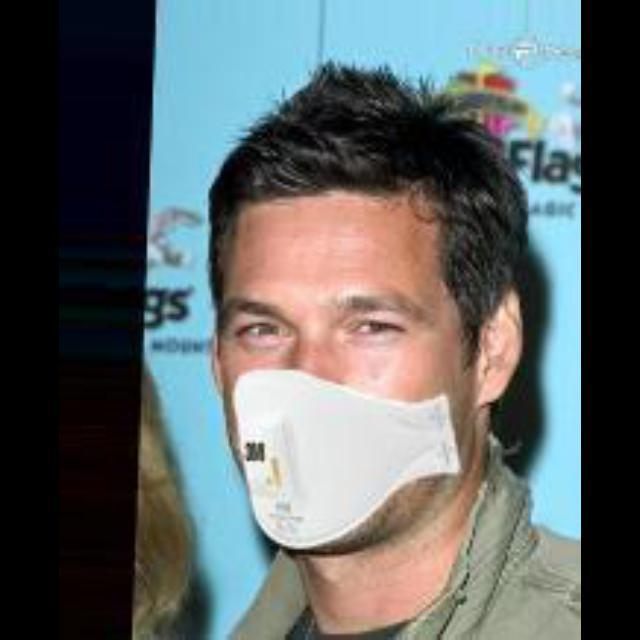suspicion: (216, 152, 480, 566)
